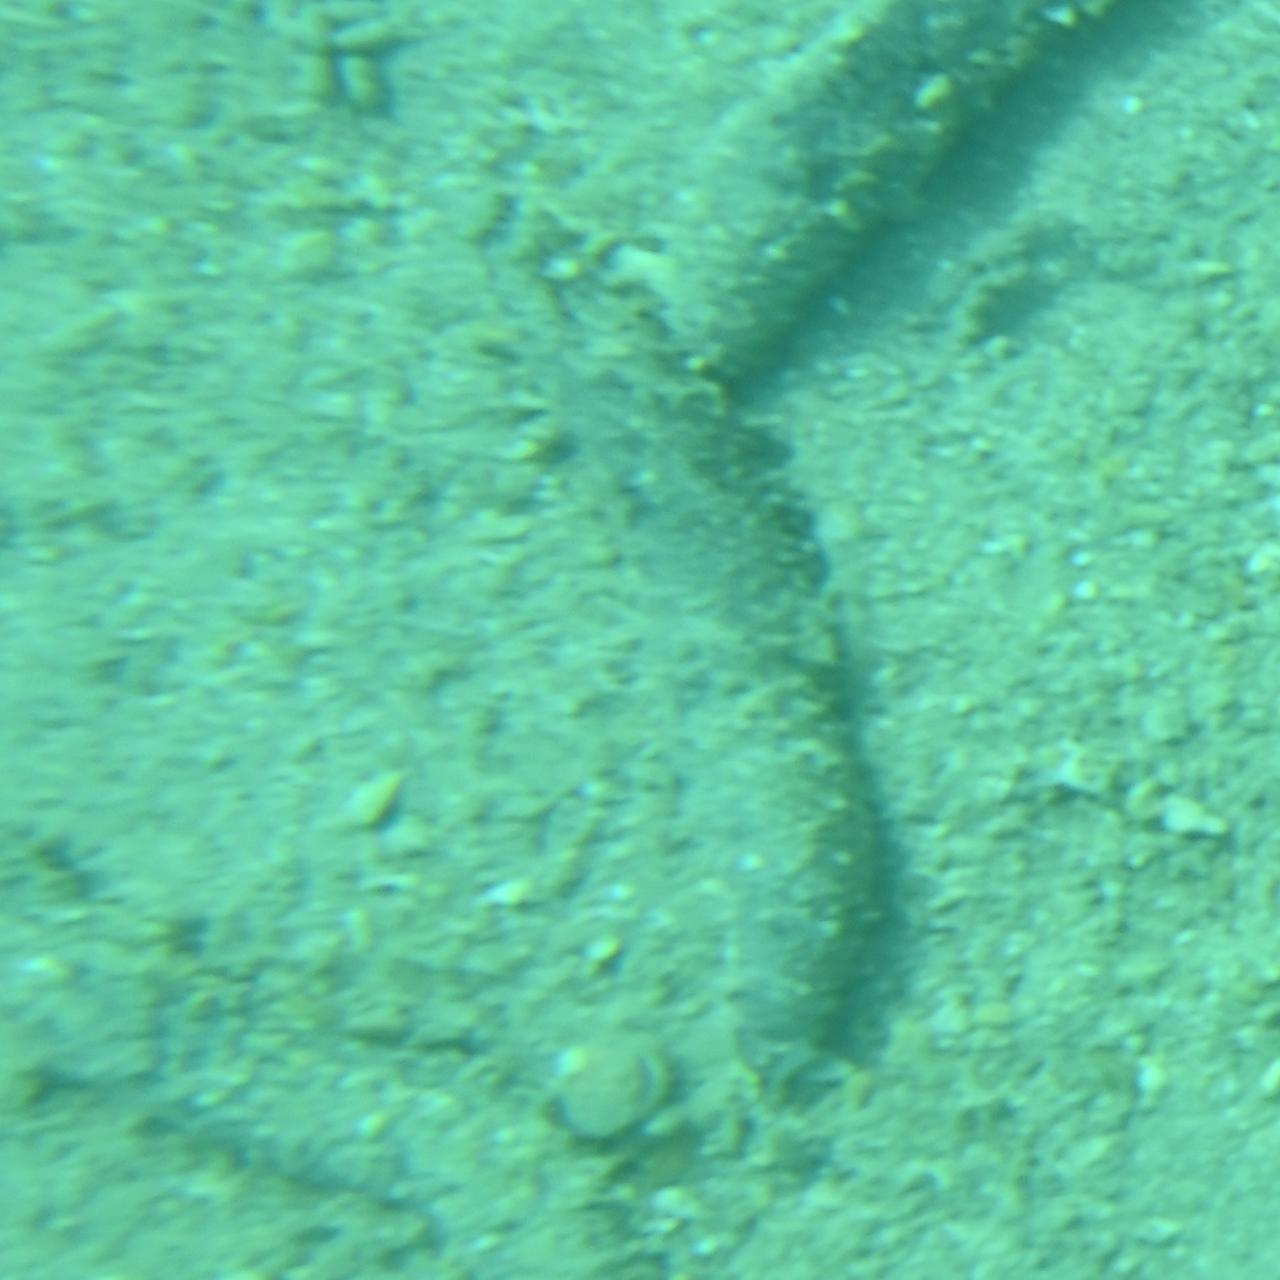Holothuria tubulosa: (430, 175, 912, 1123), (610, 0, 1280, 413), (0, 932, 683, 1280)
